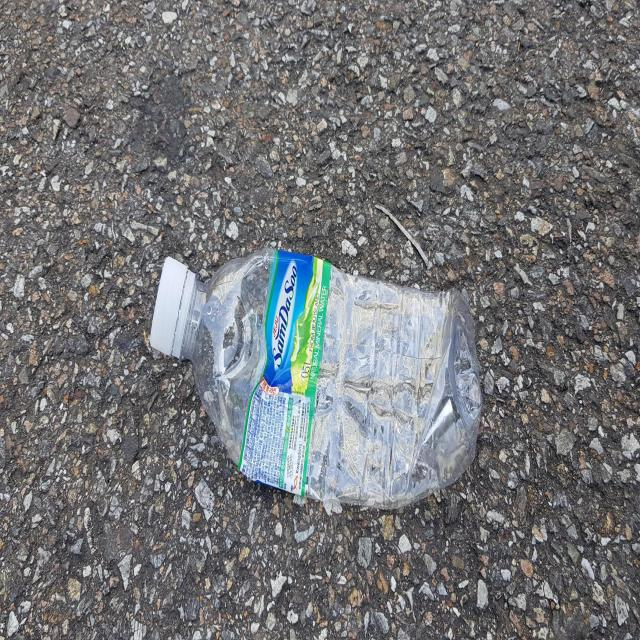plastic: (149, 248, 483, 510)
